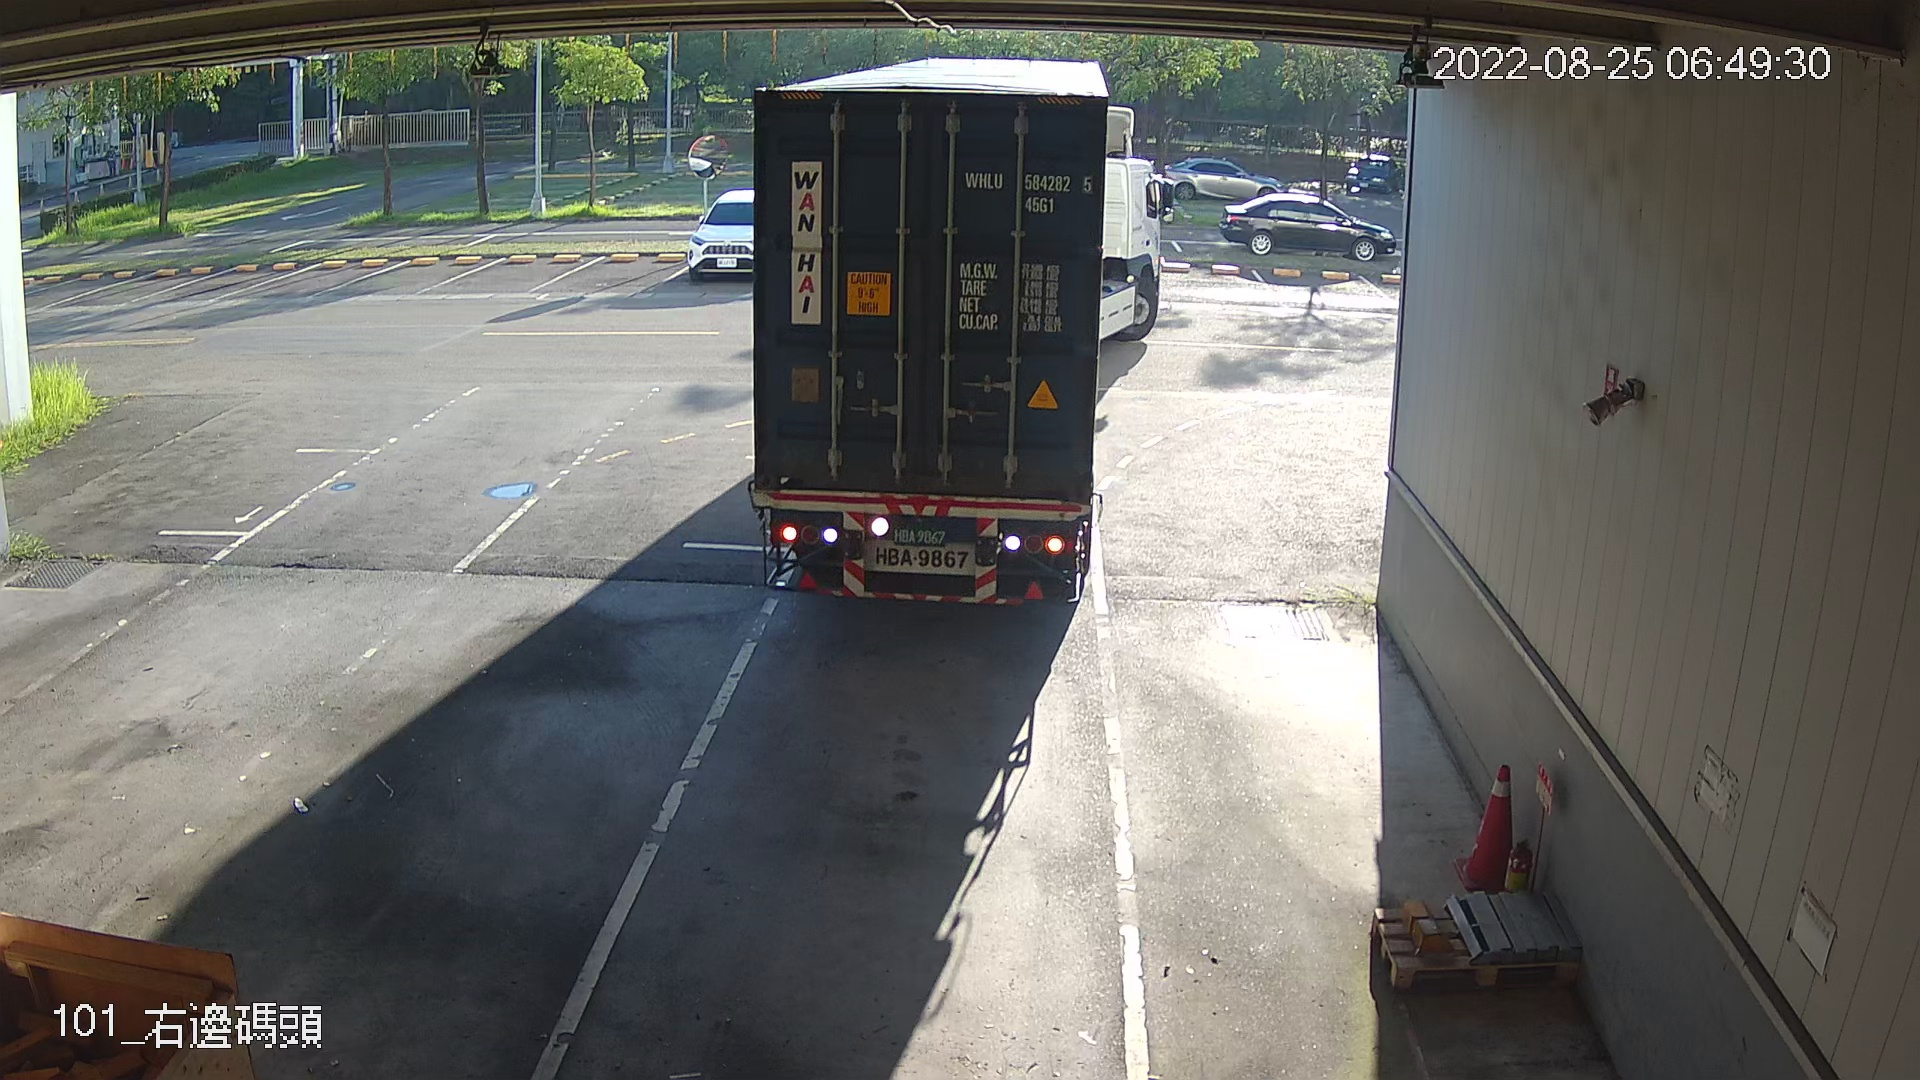container: (956, 164, 1100, 223)
